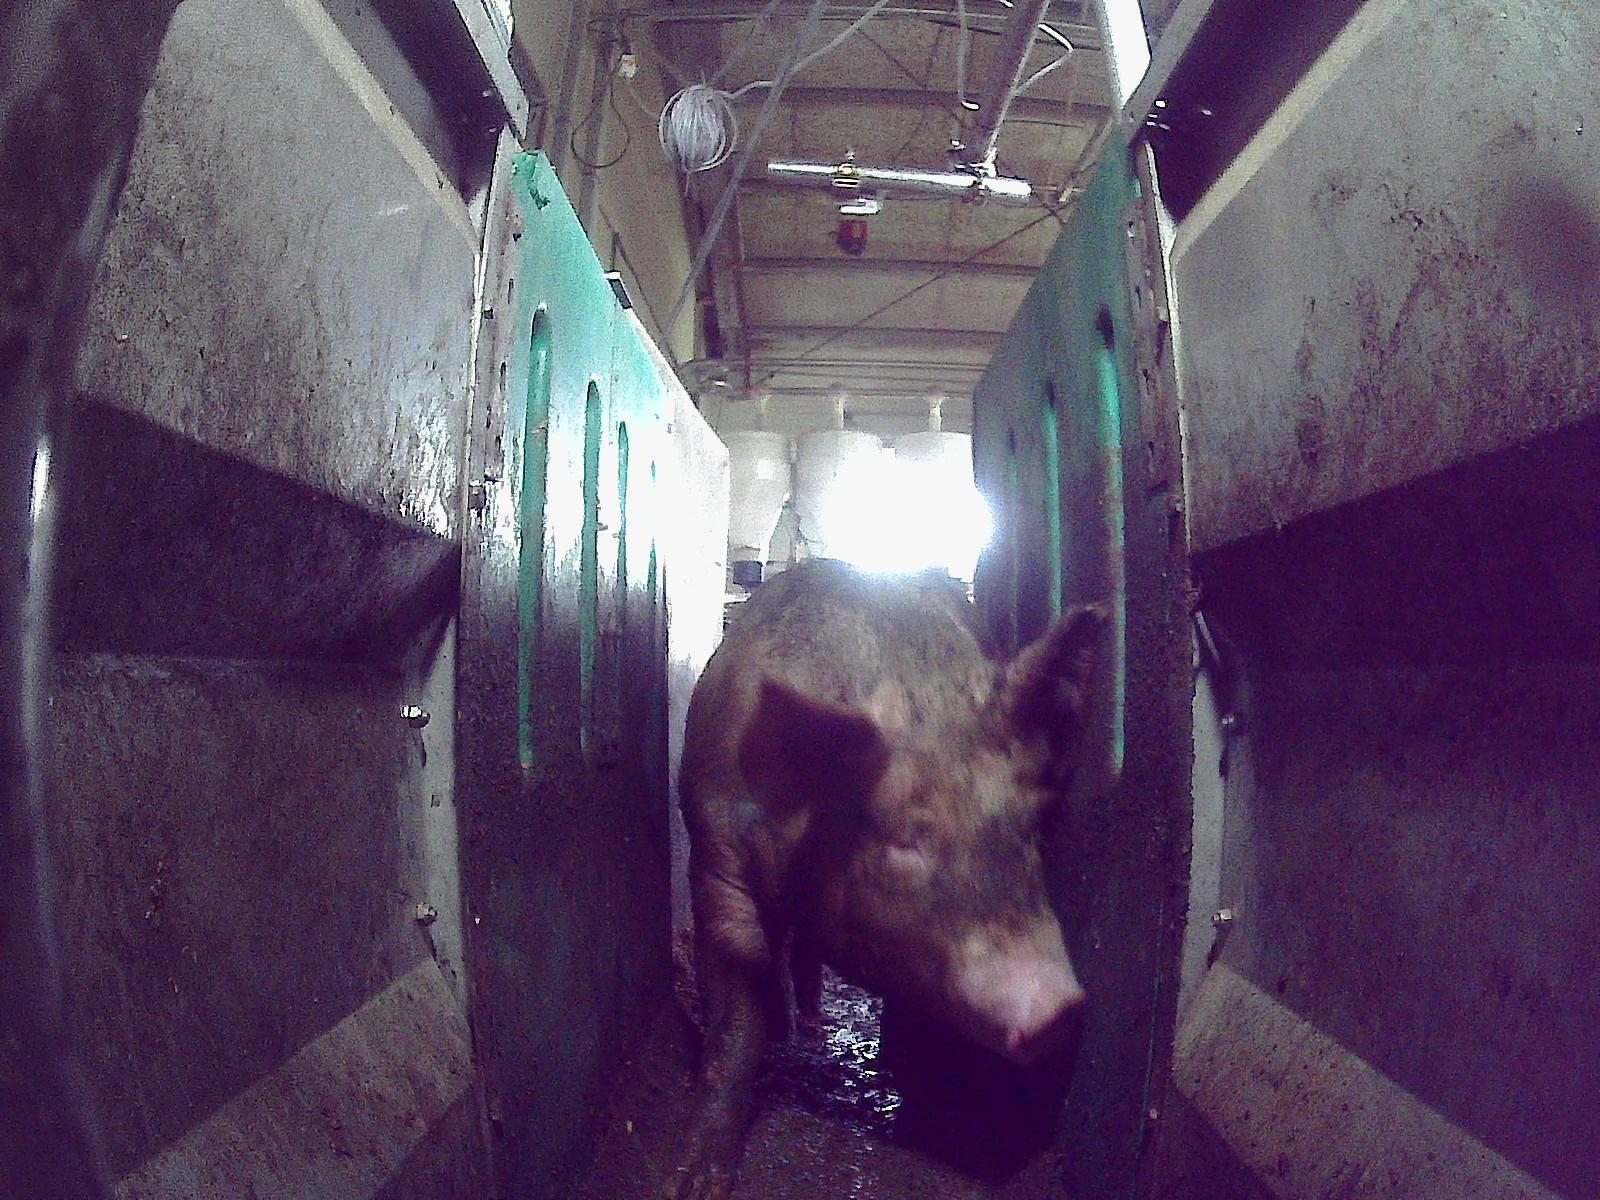Face: (826, 714, 1084, 1062)
